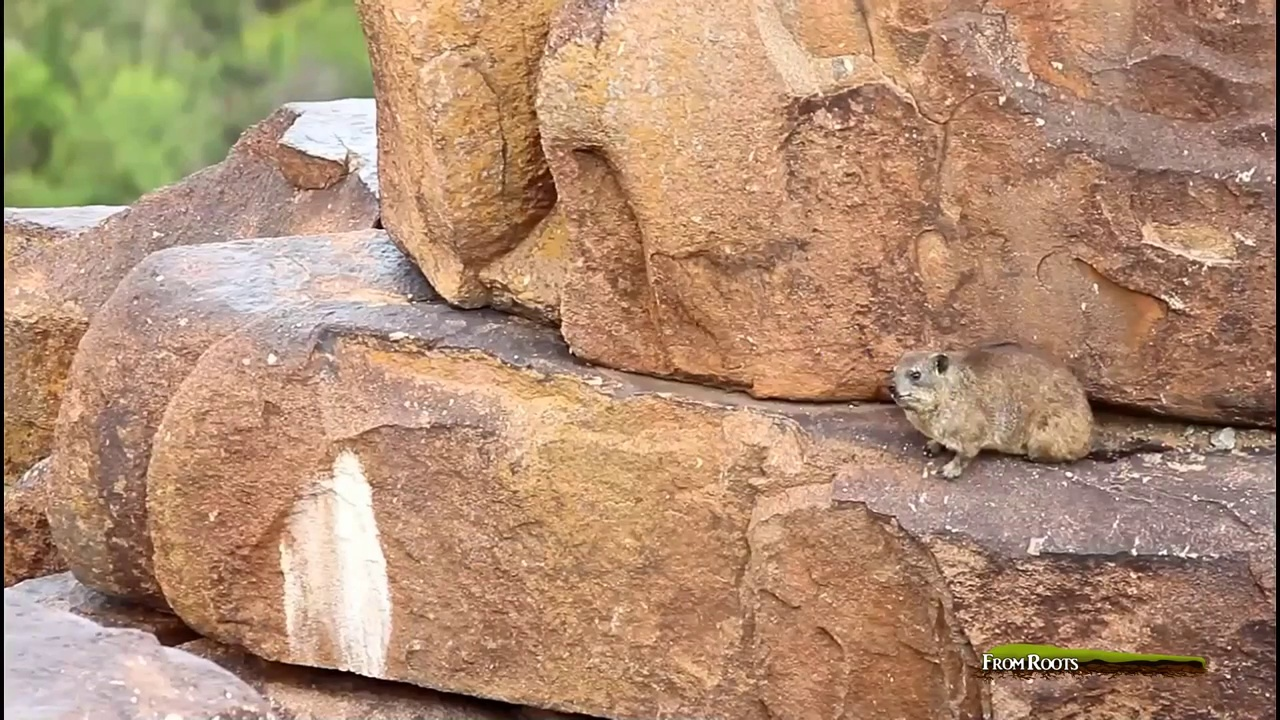Rock Hyrex: (883, 337, 1099, 482)
